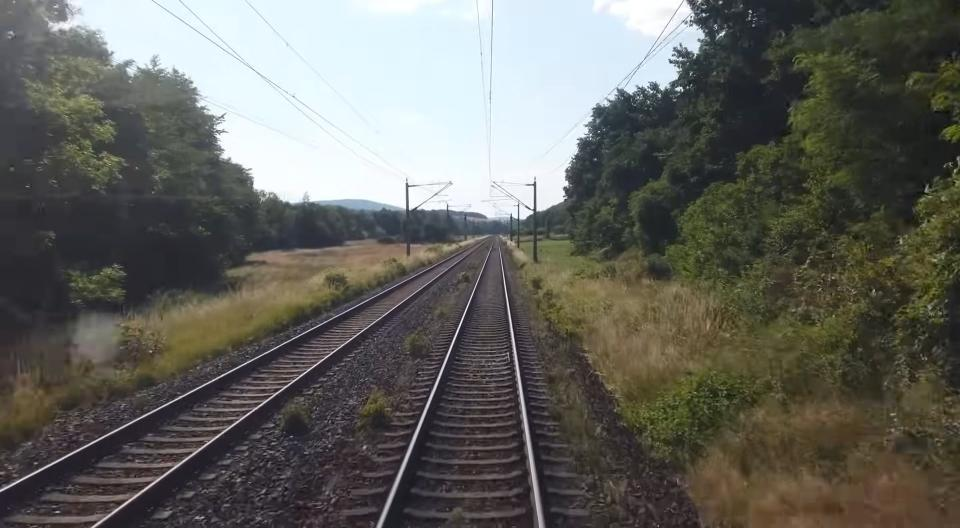Plant: (519, 272, 620, 518), (358, 388, 393, 429), (280, 401, 311, 435), (406, 331, 430, 358), (434, 304, 451, 319), (456, 271, 472, 284)
